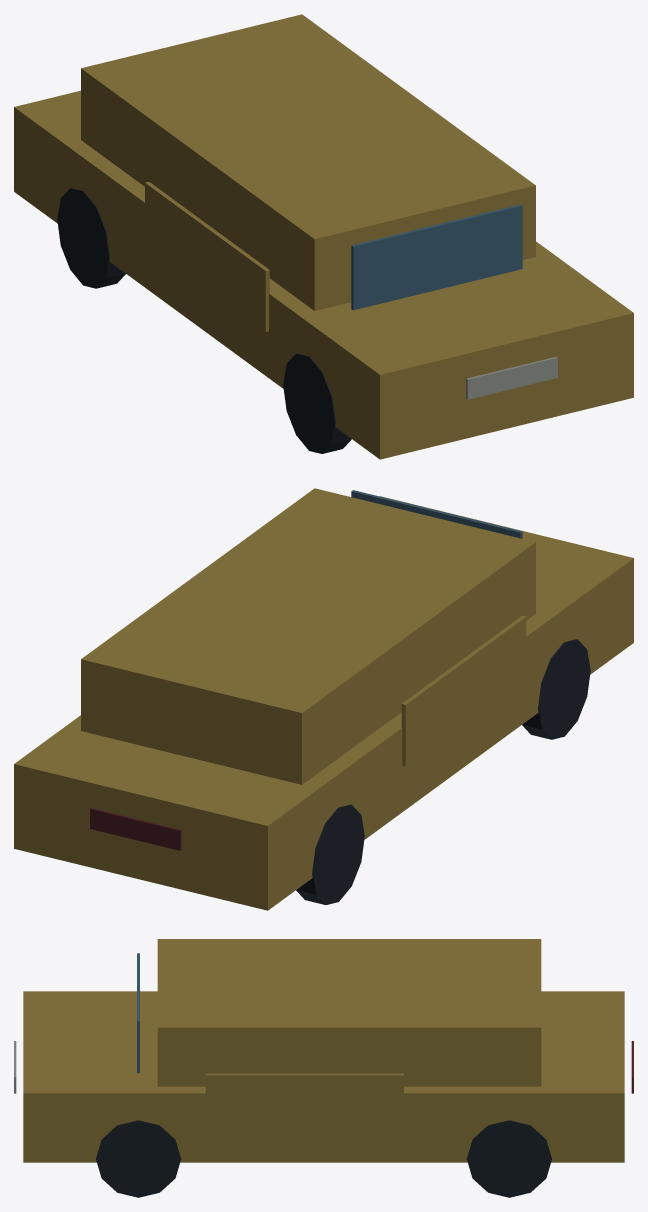
File: estate.glb
3 views of the same model, one above another, from view 1: azimuth 30°, elevation 25°; view 2: azimuth 150°, elevation 25°; view 3: azimuth 270°, elevation 25° (orthographic). The views are drawn at different scales.
Visible parts, largest first — view 1: body, door_left, wheel_front, wheel_rear; view 2: body, door_left, wheel_front, wheel_rear; view 3: body, door_right, wheel_front_right, wheel_rear_right.
Part boxes in pixels (x1=…): body: x1=14, y1=14, x2=633, y2=459; door_left: x1=145, y1=181, x2=269, y2=331; wheel_front: x1=283, y1=353, x2=351, y2=453; wheel_rear: x1=57, y1=188, x2=125, y2=288; body: x1=14, y1=488, x2=633, y2=910; door_left: x1=401, y1=615, x2=526, y2=765; wheel_front: x1=522, y1=639, x2=590, y2=739; wheel_rear: x1=296, y1=804, x2=364, y2=904; body: x1=14, y1=939, x2=633, y2=1162; door_right: x1=205, y1=1073, x2=403, y2=1125; wheel_front_right: x1=96, y1=1120, x2=180, y2=1197; wheel_rear_right: x1=467, y1=1120, x2=551, y2=1197.
Size of the model in its own units: 1.62 by 1.18 by 4.07.
1 material, 1 textured.
